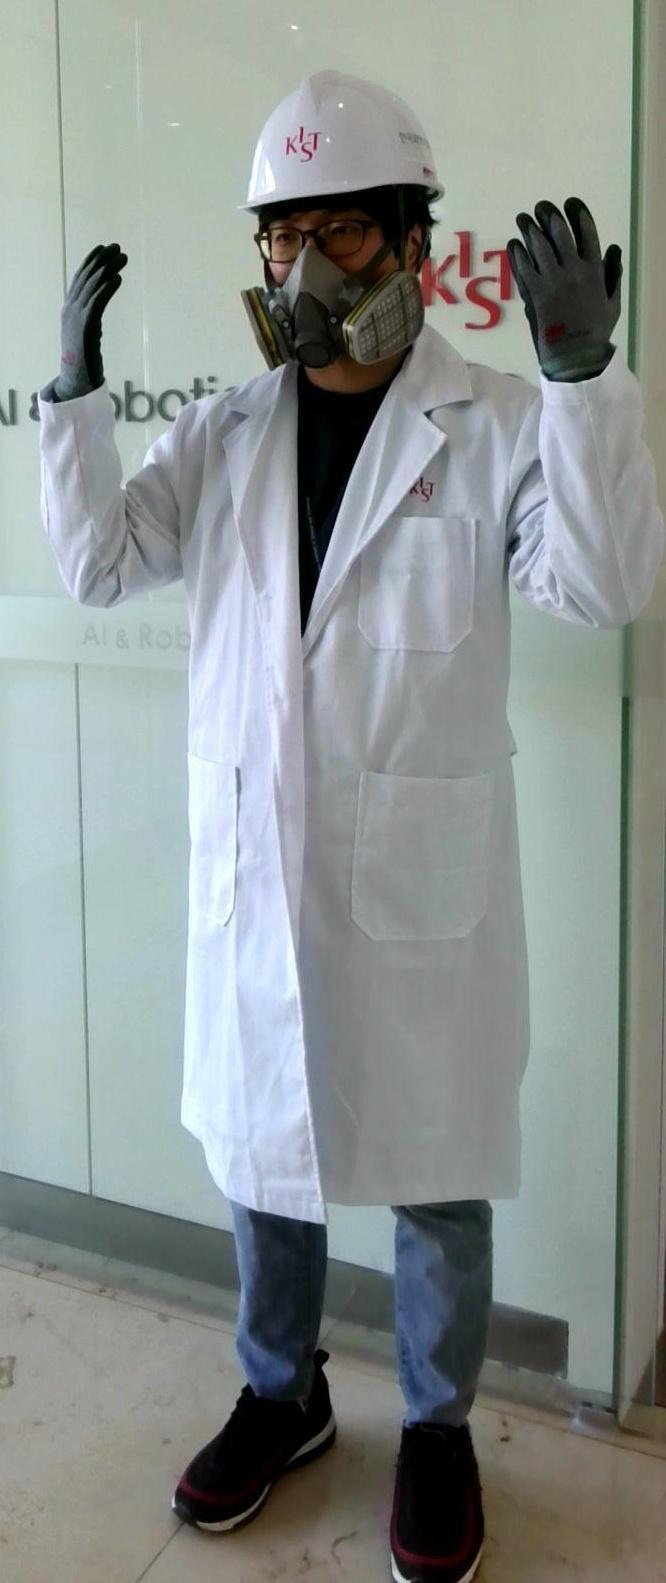lab_coat: (65, 400, 628, 1174)
